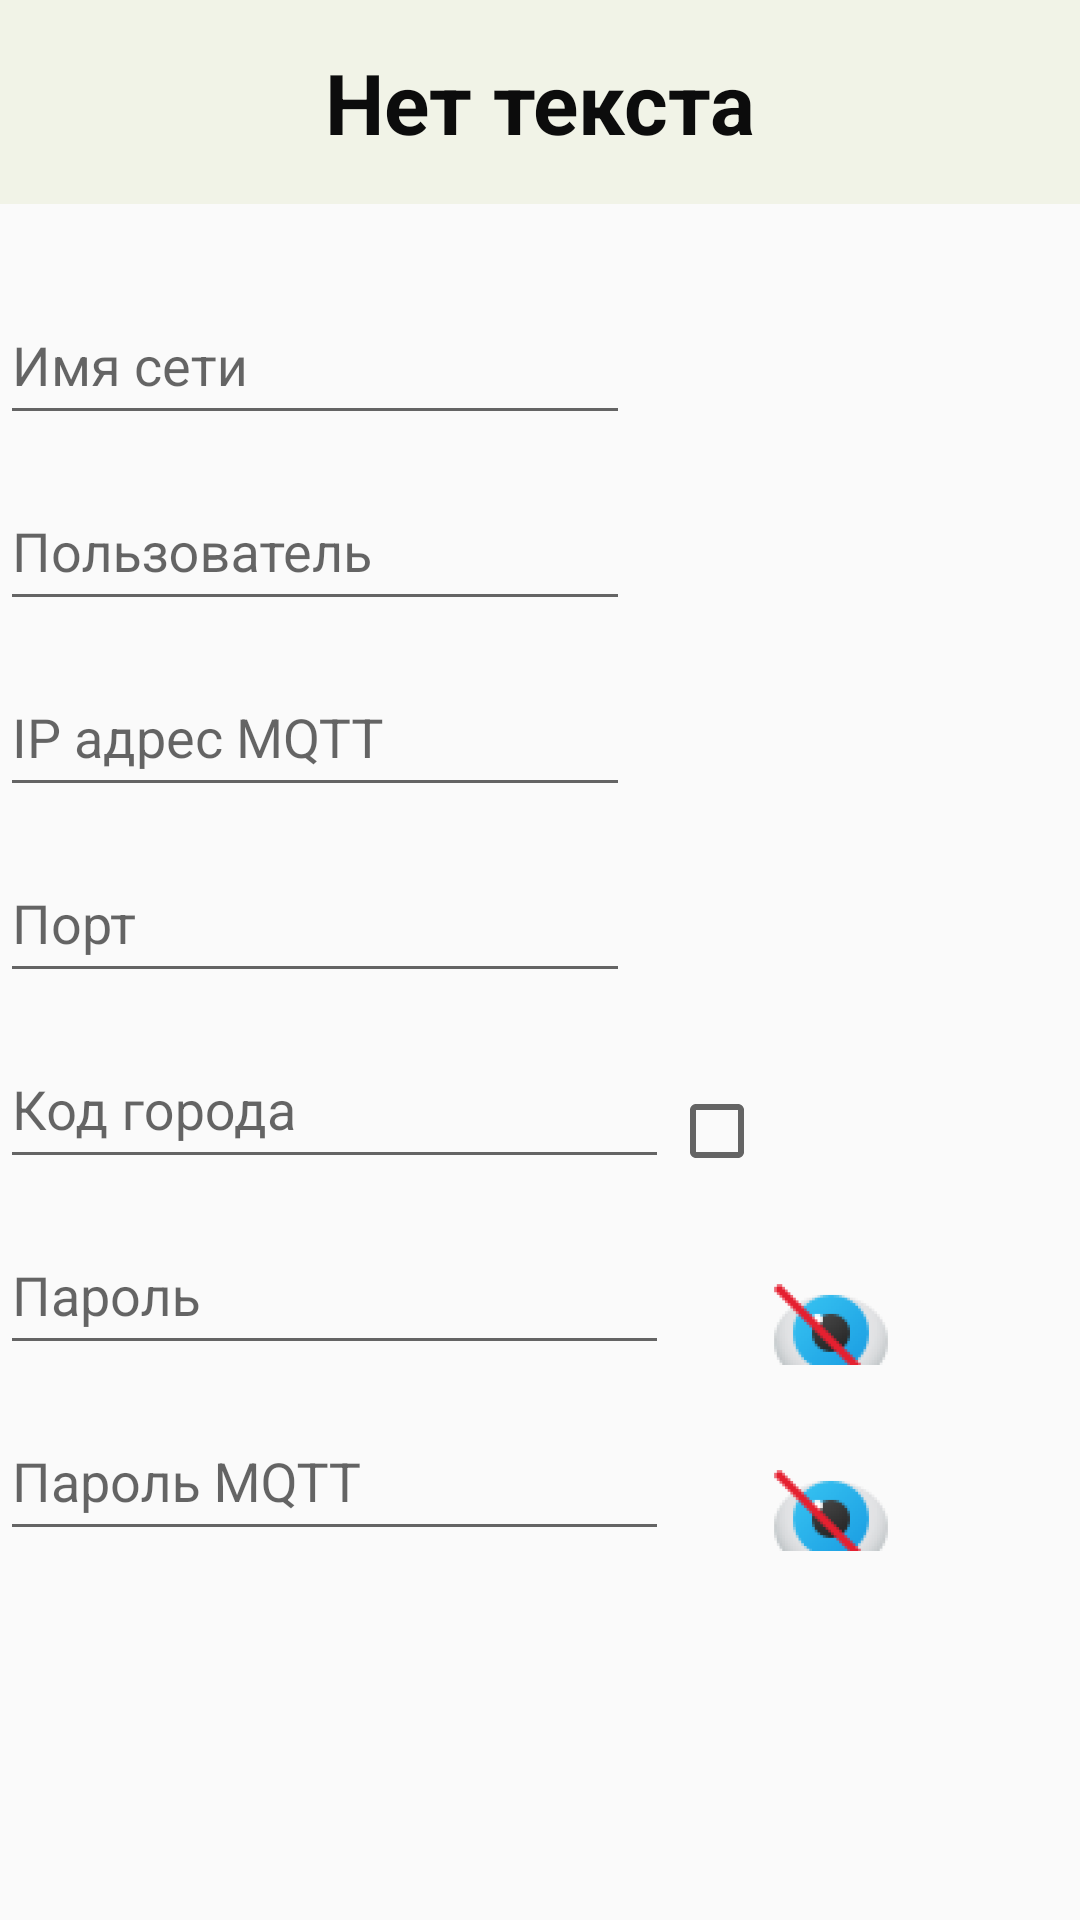

Screen size 1080px×1920px. Icon name, then its box in pixels as rect(x1, y1, x2, y2):
not show: rect(774, 1284, 888, 1365), rect(774, 1470, 888, 1551)
